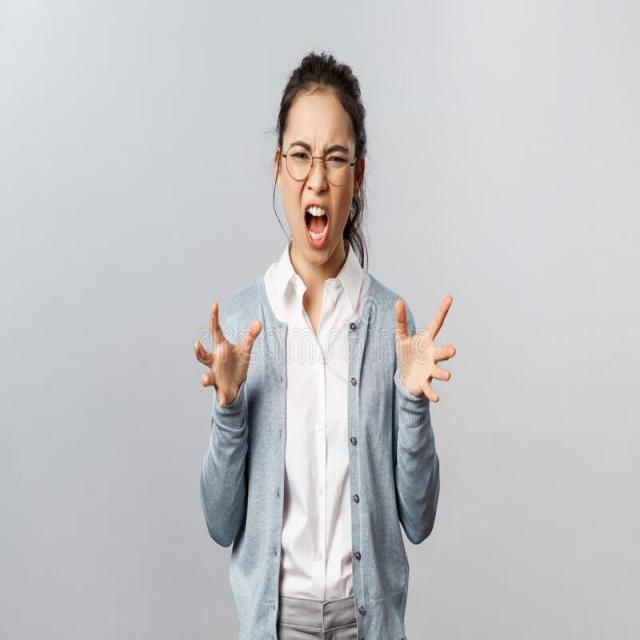angry: (263, 56, 381, 263)
